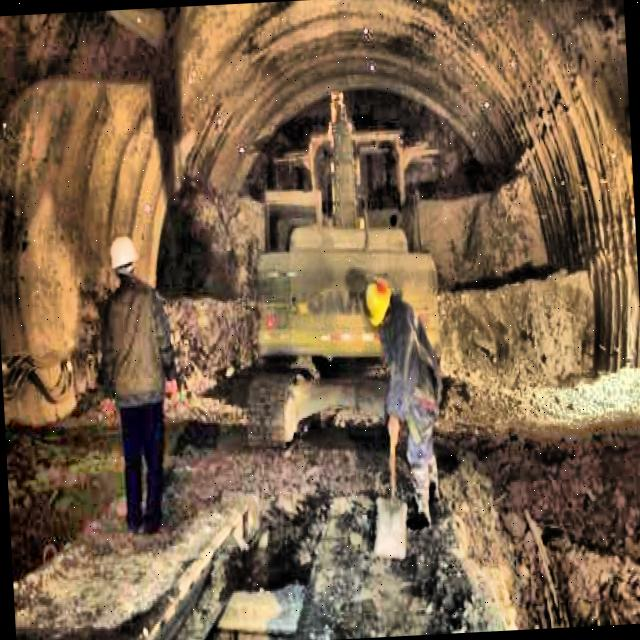helmet: (362, 276, 401, 330), (104, 236, 140, 294)
